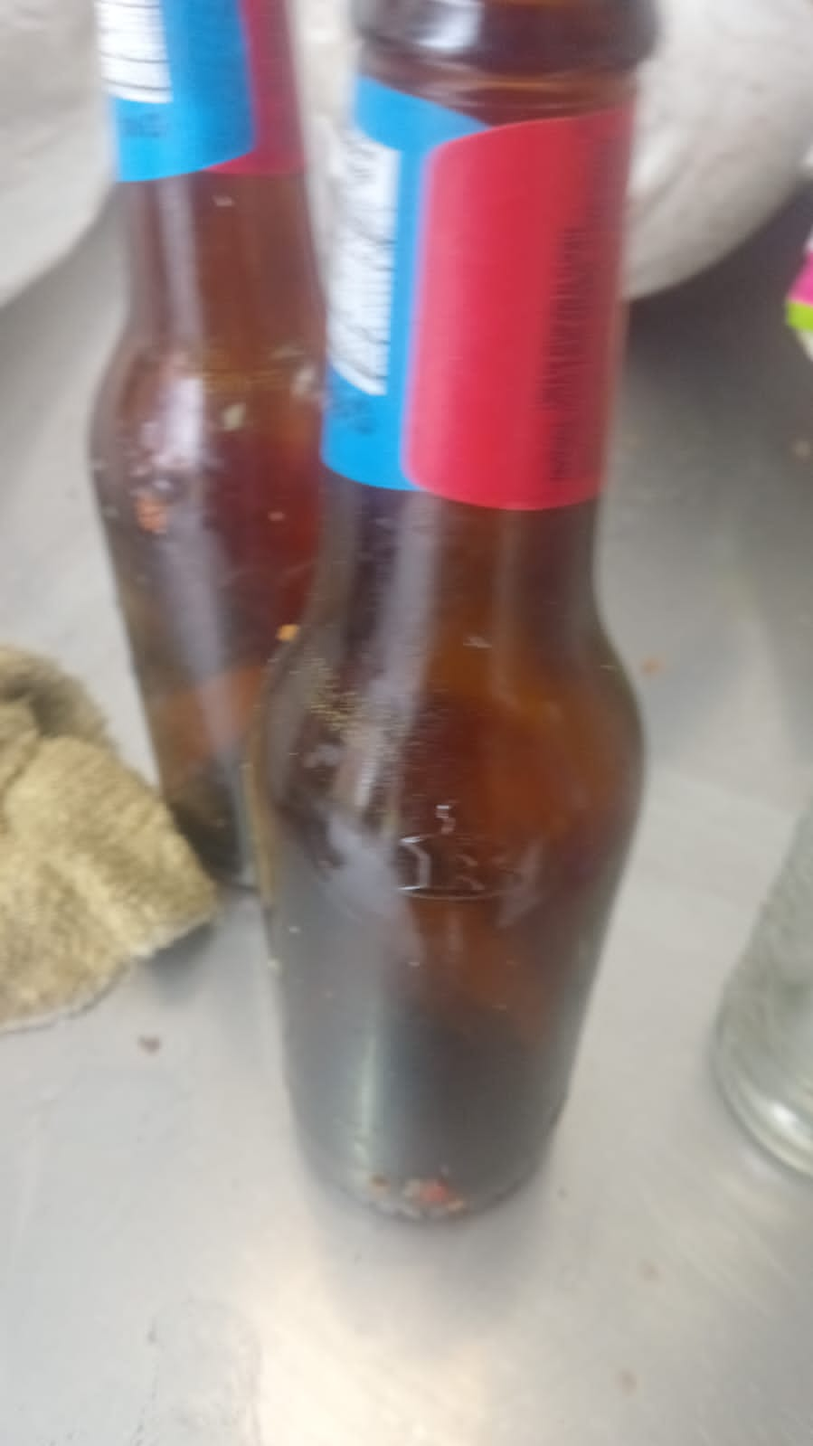Vidrio: (244, 0, 643, 1222), (83, 0, 331, 883)
